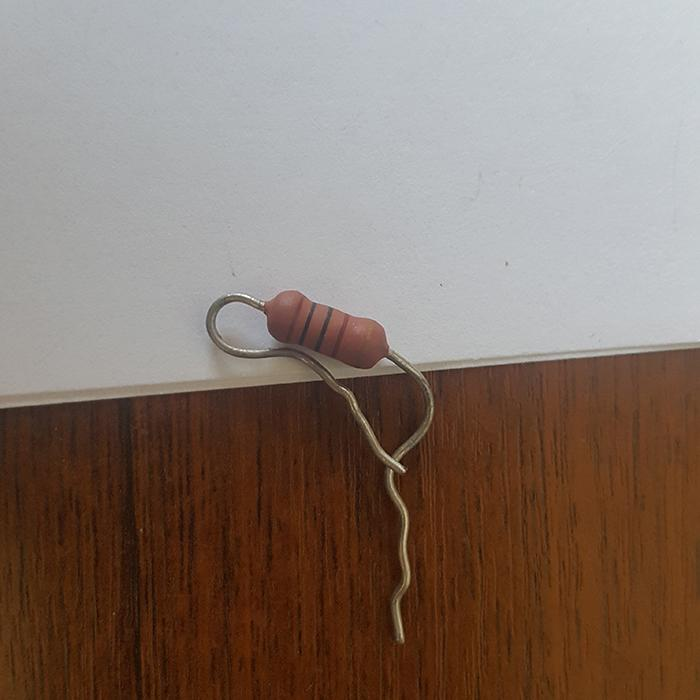resistor: (265, 289, 390, 368)
